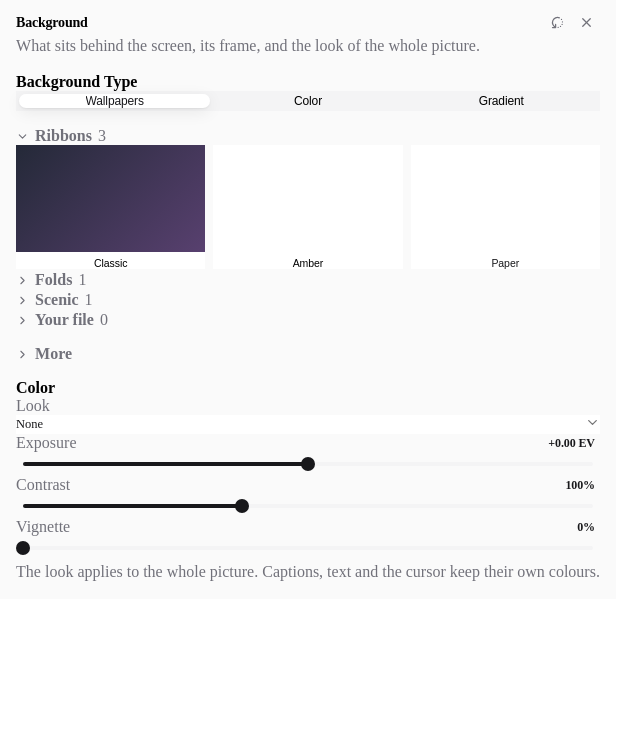
Test: BackgroundPanel wallpaper sections › puts the tuning sections under one More row, closed until asked
Expected: the text "Corner Radius" is not shown
Step 1. Click the button with class "e-more-btn" → (54, 354), box top-left (16, 345), bottom-right (600, 363)
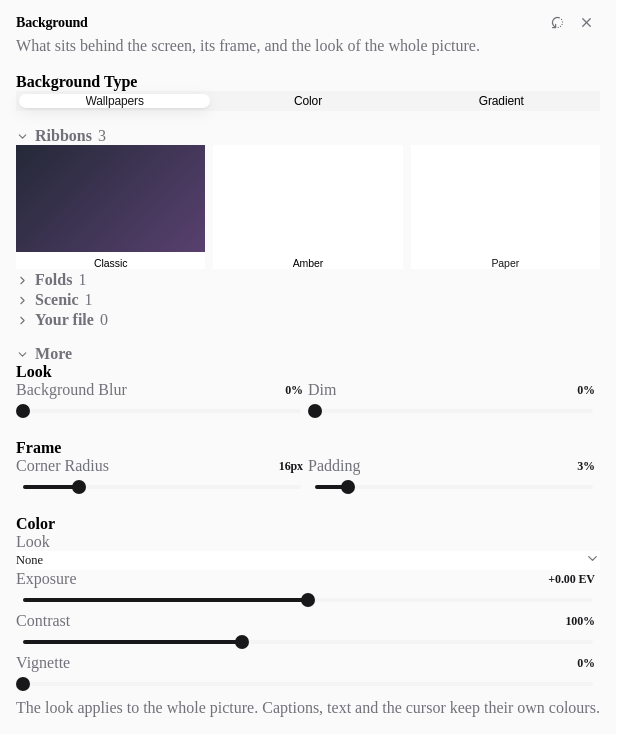
Result: the text "Corner Radius" is shown at top-left (16, 457), bottom-right (109, 475)
Result: the text "Background Blur" is shown at top-left (16, 381), bottom-right (127, 399)
